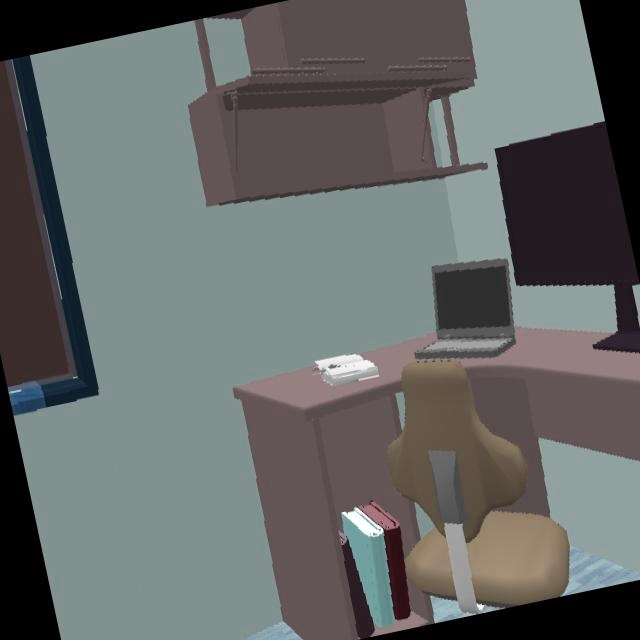book: (338, 504, 413, 639)
chair: (386, 361, 569, 615)
laptop: (422, 261, 514, 359)
monitor: (494, 120, 640, 290)
table: (233, 334, 436, 640), (461, 329, 640, 516)
